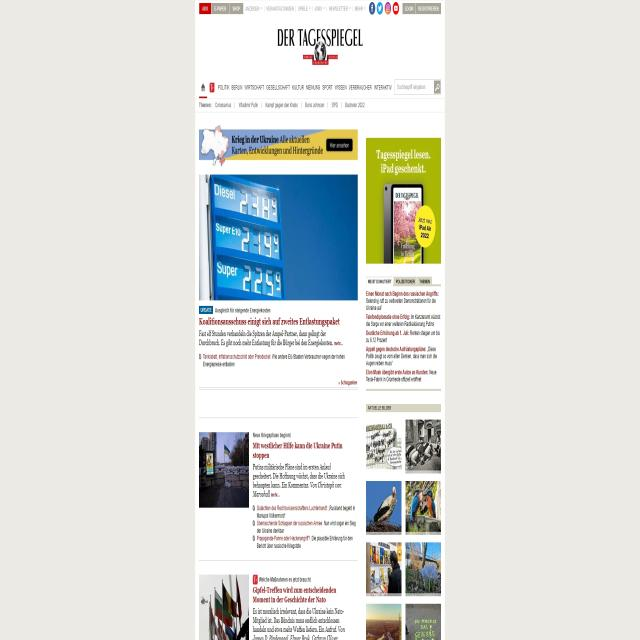side-panel: (362, 130, 446, 640)
tab-bar: (198, 94, 368, 114)
